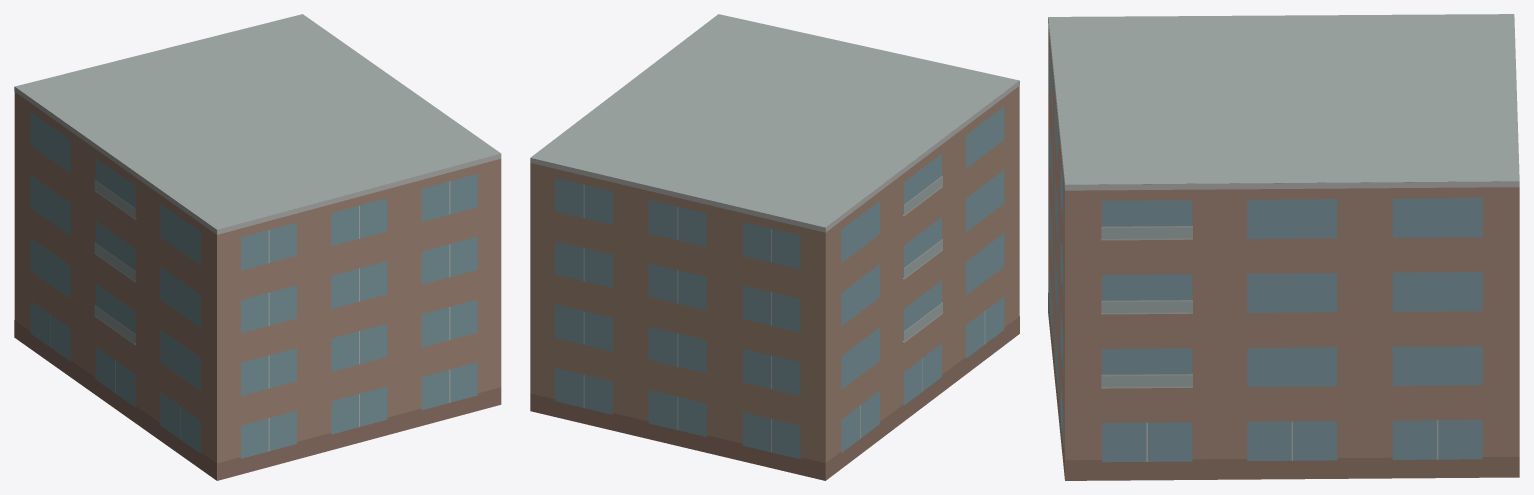
File: survey-upis-32955855.glb
The picture shows the model from 3 angles, left to right: view 1: azimuth 30°, elevation 25°; view 2: azimuth 150°, elevation 25°; view 3: azimuth 270°, elevation 25°; orthographic projection. The views are drawn at different scales.
Parts seen in each view (by area): view 1: survey-upis-32955855.tmp; view 2: survey-upis-32955855.tmp; view 3: survey-upis-32955855.tmp.
Part boxes in pixels (box(x1,y1,x2,y2)): survey-upis-32955855.tmp: box(14, 14, 501, 480); survey-upis-32955855.tmp: box(530, 14, 1019, 480); survey-upis-32955855.tmp: box(1048, 14, 1519, 480).
Size of the model in its own units: 15.1 by 12.2 by 17.61.
